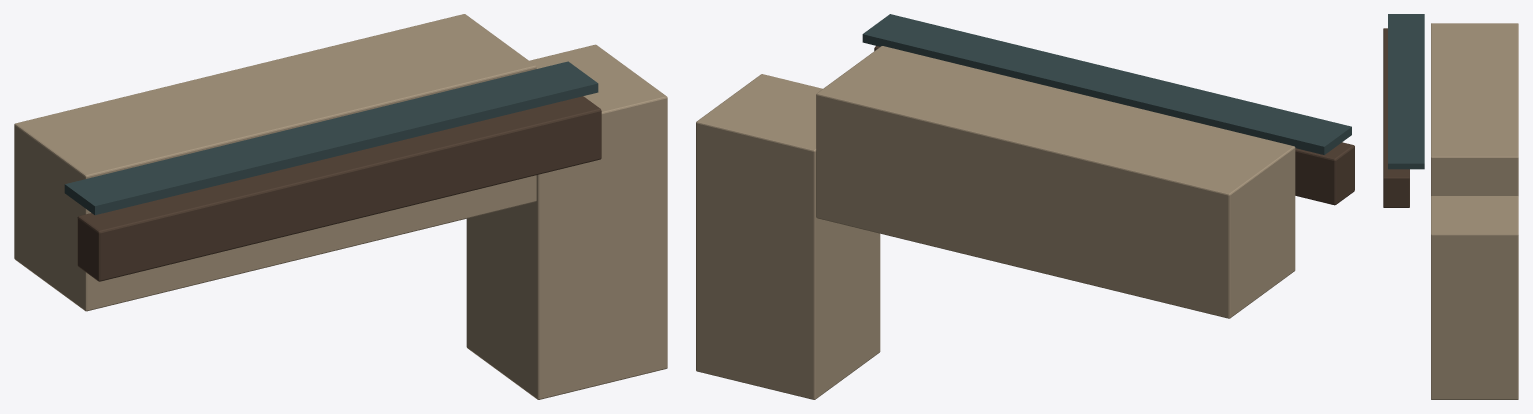
File: reception_desk.glb
The picture shows the model from 3 angles, left to right: view 1: azimuth 30°, elevation 25°; view 2: azimuth 150°, elevation 25°; view 3: azimuth 270°, elevation 25°; orthographic projection. The views are drawn at different scales.
Visible parts, largest first — view 1: reception_counter, reception_return, reception_transaction, reception_apron; view 2: reception_counter, reception_return, reception_apron, reception_transaction; view 3: reception_return, reception_counter, reception_apron, reception_transaction.
Part boxes in pixels (x1,y1,x2,y2): reception_counter: (14,14,536,311); reception_return: (466,44,667,399); reception_transaction: (77,96,601,281); reception_apron: (64,61,598,215); reception_counter: (816,46,1295,318); reception_return: (696,74,880,399); reception_apron: (862,14,1351,154); reception_transaction: (874,46,1354,205); reception_return: (1431,196,1518,399); reception_counter: (1431,23,1518,195); reception_apron: (1388,14,1424,169); reception_transaction: (1383,28,1409,207).
Bounding box in the file's own units: 3.51 × 1.86 × 1.11.
